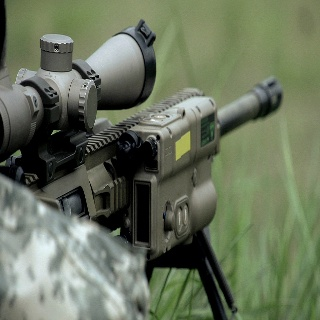rifle: (1, 17, 287, 320)
